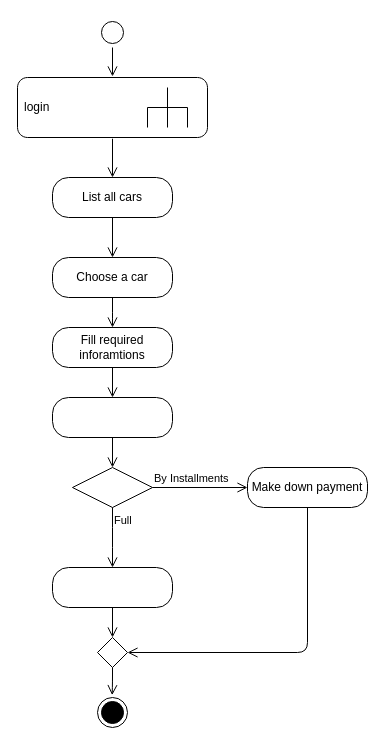
This 385x745 diagram has some shape labels left out. Here are the shapes that lost their labels. From the top down, the box of each, then its label:
(52, 396, 172, 438): Choose payment plan
(52, 566, 172, 608): Make payment
